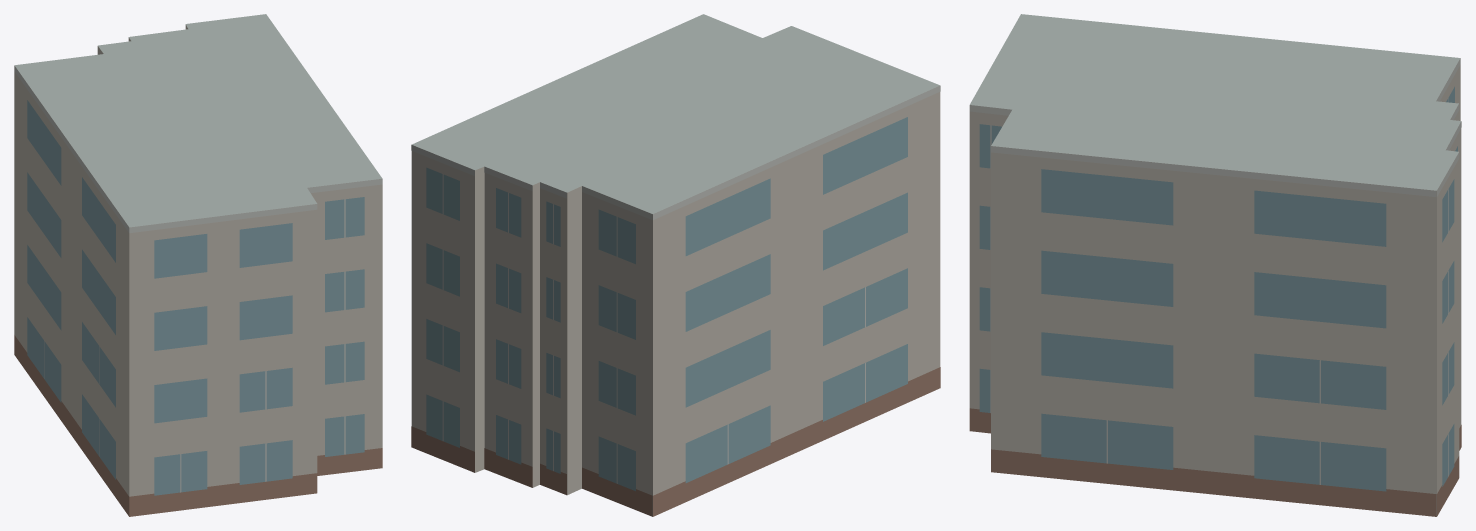
The model's file is survey-upis-32712376.glb.
The picture shows the model from 3 angles, left to right: view 1: azimuth 30°, elevation 25°; view 2: azimuth 150°, elevation 25°; view 3: azimuth 270°, elevation 25°; orthographic projection. The views are drawn at different scales.
Visible parts, largest first — view 1: survey-upis-32712376.tmp; view 2: survey-upis-32712376.tmp; view 3: survey-upis-32712376.tmp.
Boxes of the visible parts, x1,y1,x2,y2 form: survey-upis-32712376.tmp: (14, 14, 382, 516); survey-upis-32712376.tmp: (411, 14, 940, 516); survey-upis-32712376.tmp: (969, 14, 1461, 516).
Bounding box in the file's own units: 14.19 × 12.2 × 16.69.
